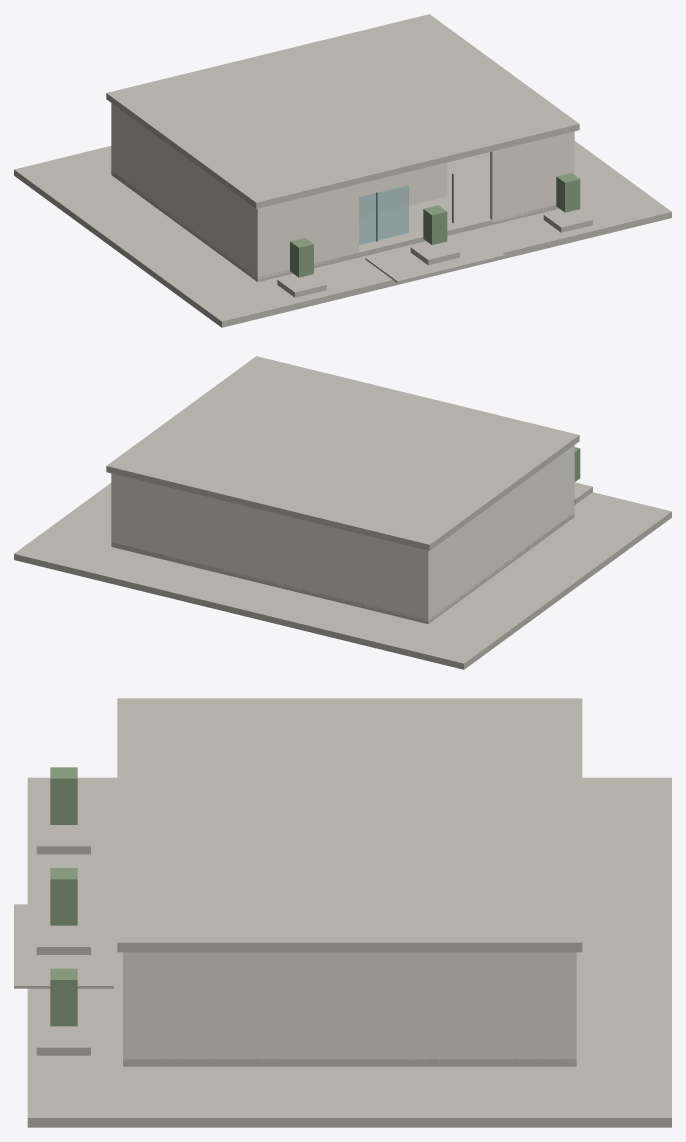
The model's file is living-gallery.glb.
The picture shows the model from 3 angles, top to bottom: view 1: azimuth 30°, elevation 25°; view 2: azimuth 150°, elevation 25°; view 3: azimuth 270°, elevation 25°; orthographic projection. The views are drawn at different scales.
Visible parts, largest first — view 1: roof_roof, site_base, structure_left, structure_floor, structure_front-left, structure_front-right, structure_reception-partition, site_path, glass_front-glazing, site_tree-2, site_tree-1, site_tree-0 (+3 smaller); view 2: roof_roof, site_base, structure_rear, structure_left, structure_floor; view 3: roof_roof, site_base, structure_right, site_path, structure_floor, site_planter-0, site_planter-2, site_planter-1, site_tree-2, site_tree-0, site_tree-1.
Part boxes in pixels (<box>): roof_roof: <box>106,14,579,208</box>; site_base: <box>14,141,671,327</box>; structure_left: <box>111,103,261,279</box>; structure_floor: <box>111,152,558,281</box>; structure_front-left: <box>255,184,358,279</box>; structure_front-right: <box>490,131,574,222</box>; structure_reception-partition: <box>359,162,447,217</box>; site_path: <box>365,231,505,282</box>; glass_front-glazing: <box>359,185,408,244</box>; site_tree-2: <box>556,173,580,212</box>; site_tree-1: <box>423,205,447,244</box>; site_tree-0: <box>290,238,313,277</box>; roof_roof: <box>106,356,579,550</box>; site_base: <box>14,483,671,669</box>; structure_rear: <box>111,474,430,621</box>; structure_left: <box>424,447,574,621</box>; structure_floor: <box>111,512,574,623</box>; roof_roof: <box>117,698,582,952</box>; site_base: <box>27,777,671,1127</box>; structure_right: <box>123,952,576,1062</box>; site_path: <box>14,904,113,988</box>; structure_floor: <box>123,1059,576,1066</box>; site_planter-0: <box>36,822,90,854</box>; site_planter-2: <box>36,1023,90,1055</box>; site_planter-1: <box>36,923,90,954</box>; site_tree-2: <box>50,968,77,1026</box>; site_tree-0: <box>50,767,77,824</box>; site_tree-1: <box>50,868,77,925</box>.
Size of the model in its own units: 21.3 by 4 by 17.4.
